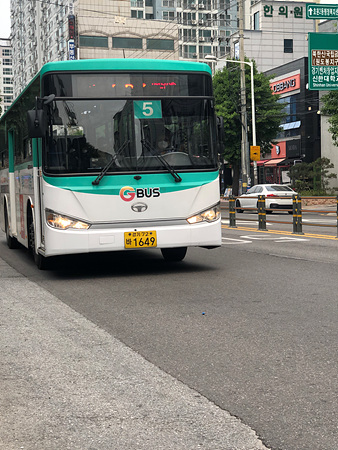bnum: (136, 98, 160, 118)
